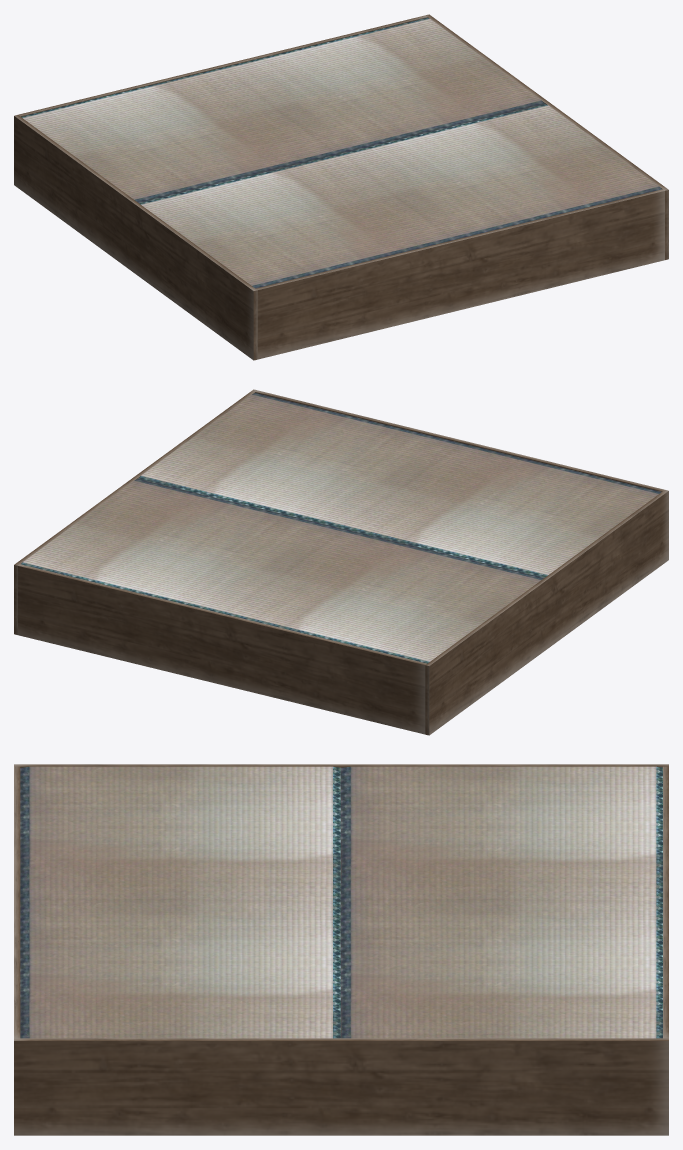
The model's file is tatami01b.fbx.
3 views of the same model, one above another, from view 1: azimuth 30°, elevation 25°; view 2: azimuth 150°, elevation 25°; view 3: azimuth 270°, elevation 25° (orthographic). The views are drawn at different scales.
Parts seen in each view (by area): view 1: tatami01b; view 2: tatami01b; view 3: tatami01b.
Part boxes in pixels (<box>): tatami01b: <box>14,14,668,360</box>; tatami01b: <box>14,389,668,735</box>; tatami01b: <box>14,764,668,1135</box>.
Bounding box in the file's own units: 211 × 33.63 × 211.
